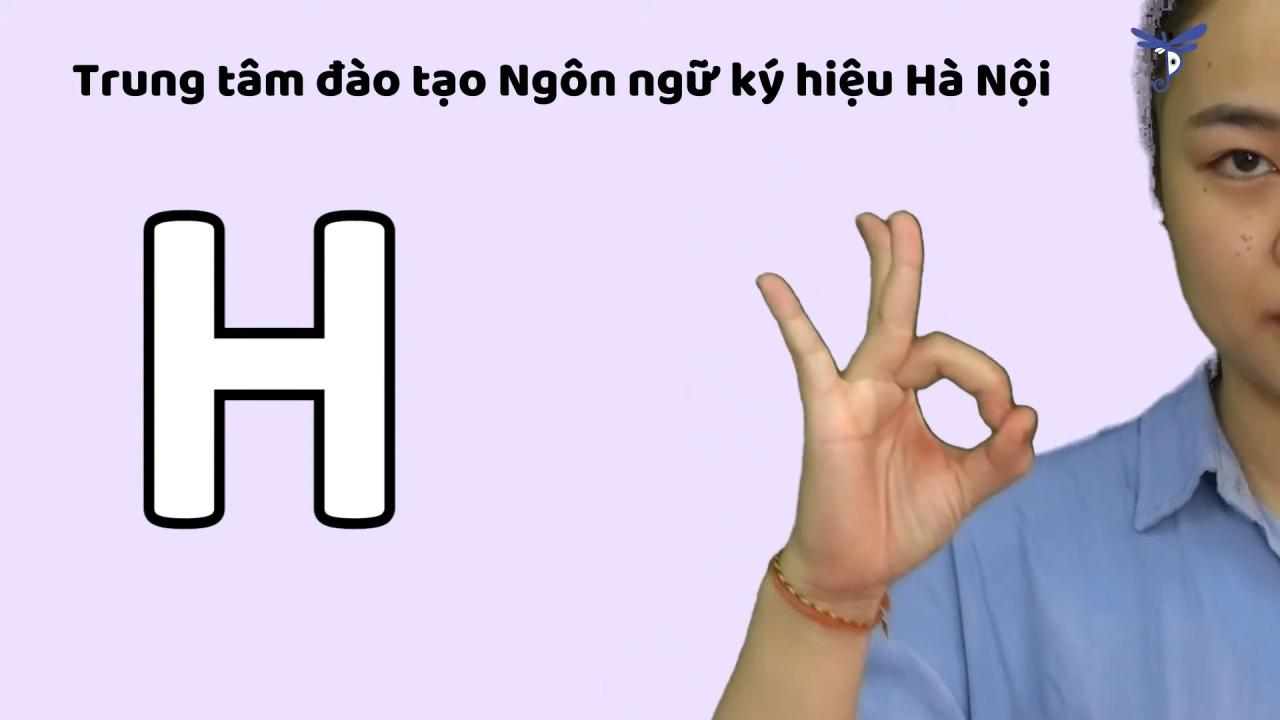H: (739, 187, 1042, 627)
